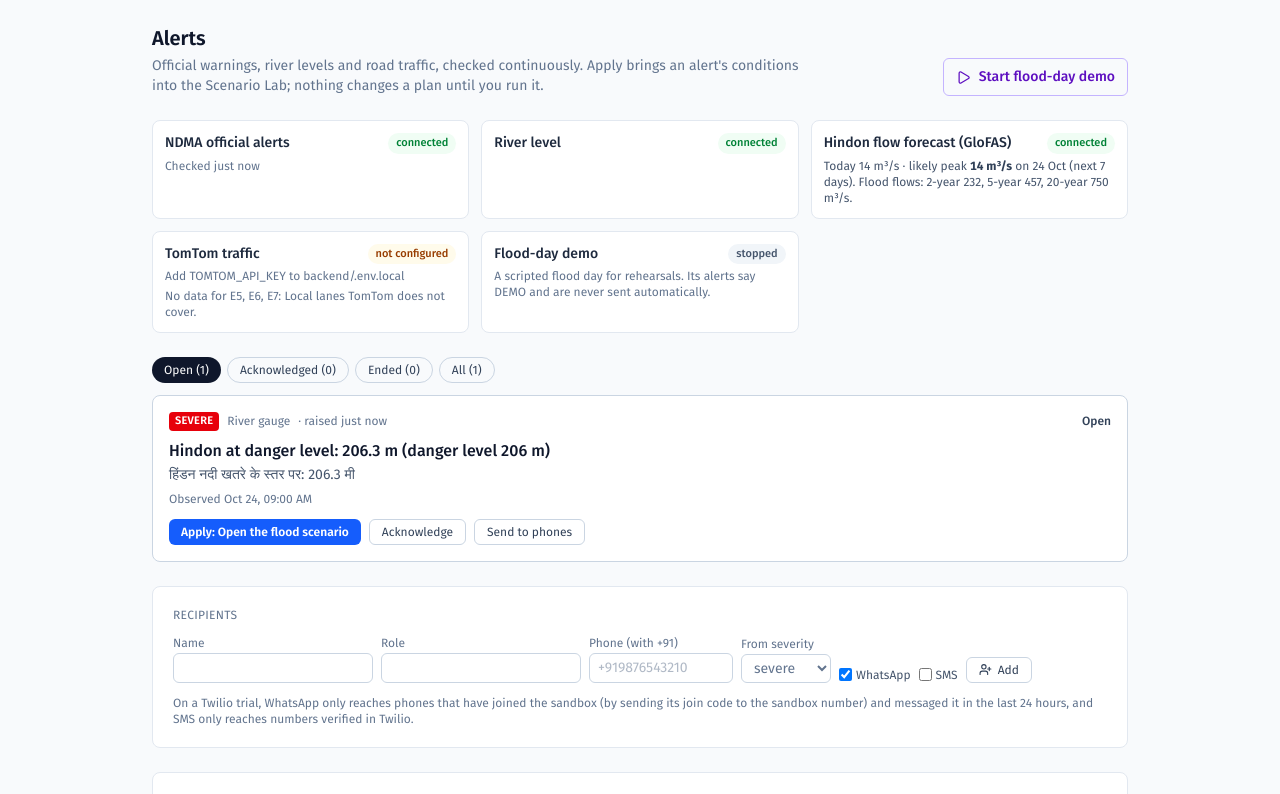
Test: AlertsView › previews who a message goes to before sending it
The width and height of the screenshot is (1280, 794).
Click the button "Send to phones".
click(530, 532)  # box [474,519,585,545]
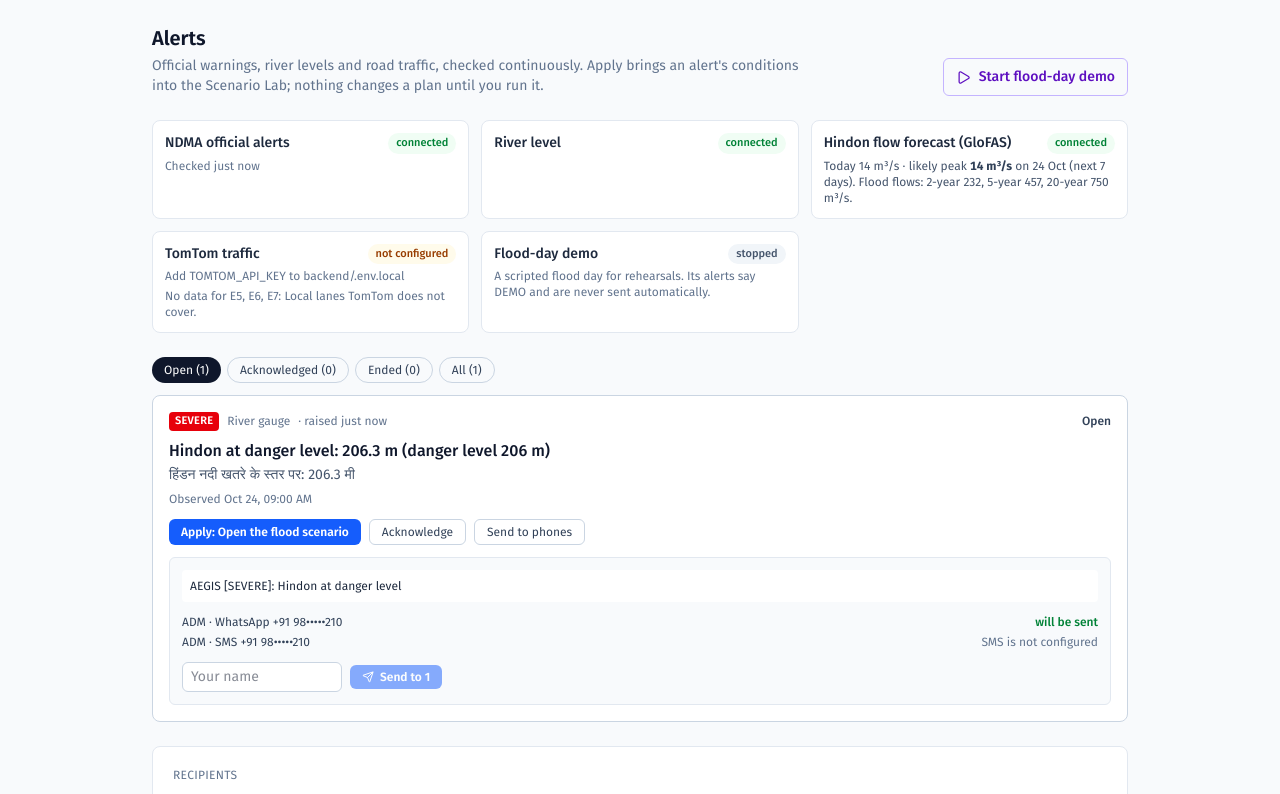
expect the text "SMS is not configured" is shown: met, box [982,634,1098,650]
Type "Control room" into the field labelled "Your name".
click(262, 677); type("Control room")  # box [182,662,342,692]
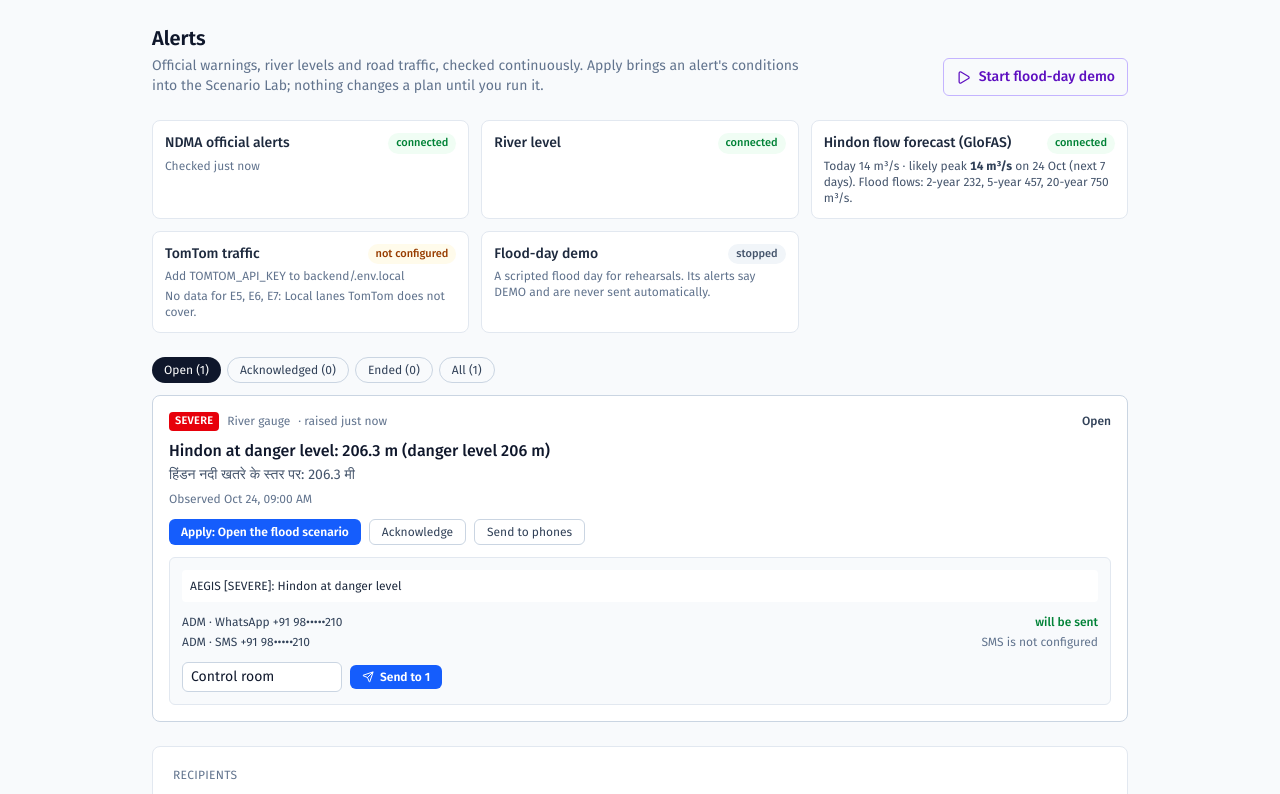
Click the button "Send to 1".
click(396, 677)  # box [350,665,442,689]
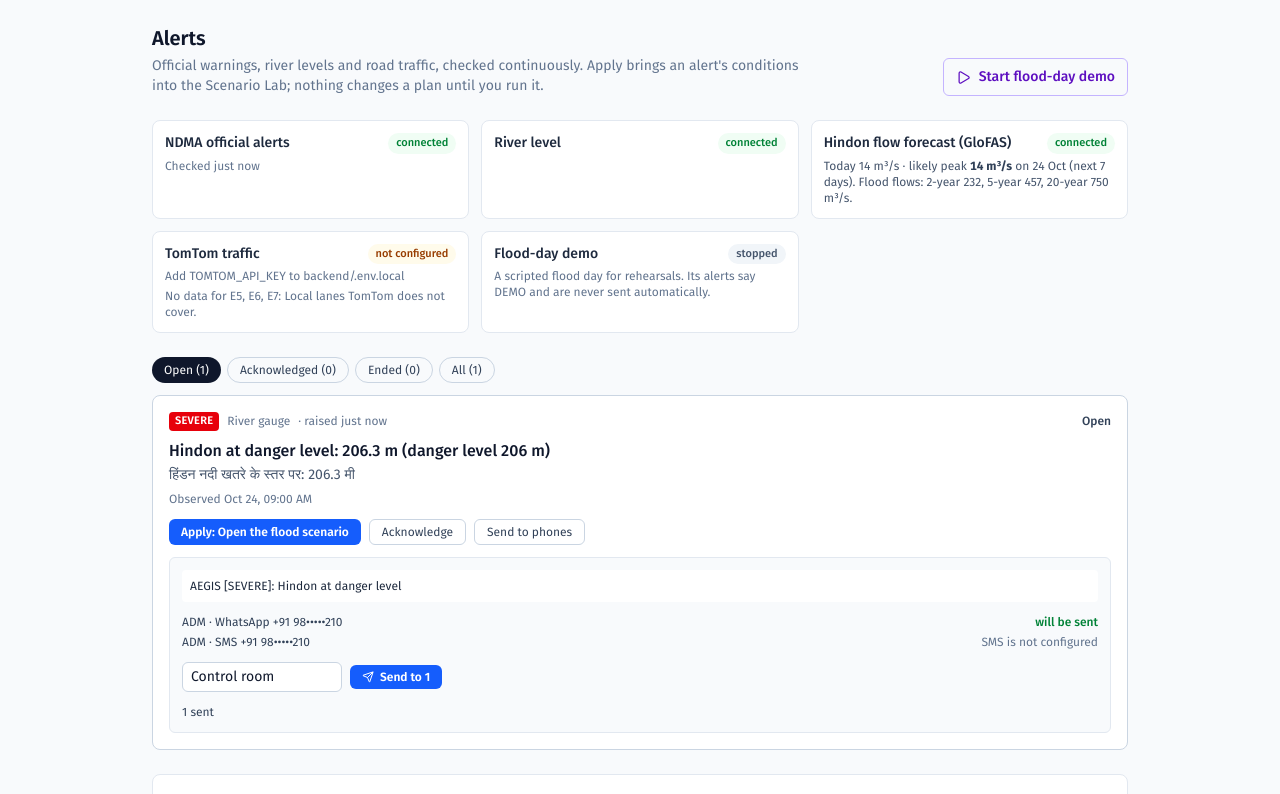
expect the text "1 sent" is shown: met, box [182,705,214,719]
